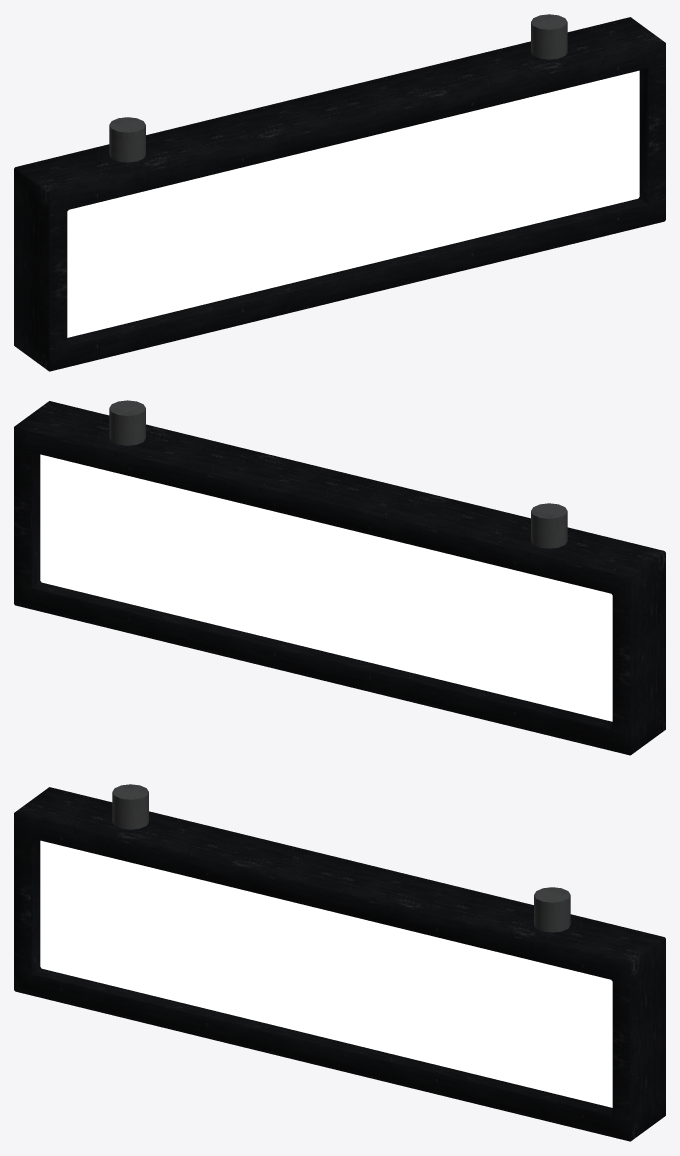
File: SignBoards_4.fbx
3 views of the same model, one above another, from view 1: azimuth 30°, elevation 25°; view 2: azimuth 150°, elevation 25°; view 3: azimuth 330°, elevation 25° (orthographic).
Visible parts, largest first — view 1: SignBoards_4; view 2: SignBoards_4; view 3: SignBoards_4.
Boxes of the visible parts, <box> form: SignBoards_4: <box>14,14,665,371</box>; SignBoards_4: <box>14,400,665,755</box>; SignBoards_4: <box>14,784,665,1141</box>.
Size of the model in its own units: 0.864 by 0.28 by 0.0864.
